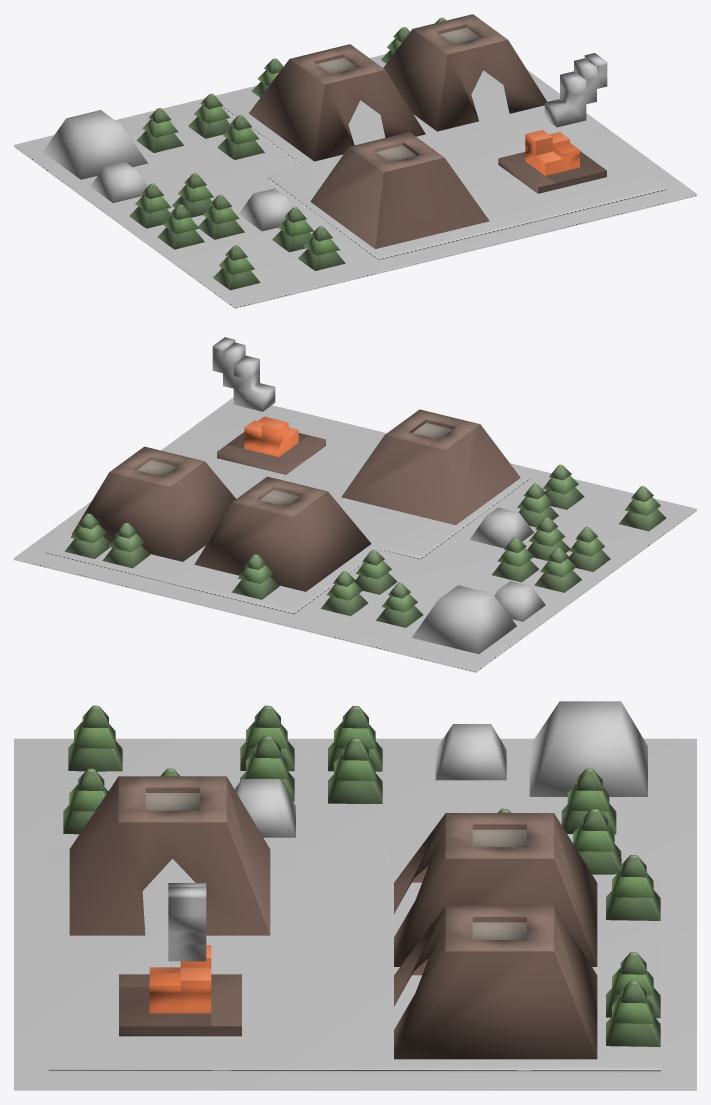
The model's file is CampHut.fbx.
3 views of the same model, one above another, from view 1: azimuth 30°, elevation 25°; view 2: azimuth 150°, elevation 25°; view 3: azimuth 270°, elevation 25° (orthographic). The views are drawn at different scales.
Visible parts, largest first — view 1: Floor, Hut3, Hut1, Hut1_001, Rock_000, Campfire, Cube_002, Rock_001, Rock_002, Tree_009, Tree_007, Tree_008 (+8 smaller); view 2: Floor, Hut3, Hut1, Hut1_001, Rock_000, Campfire, Cube_002, Rock_002, Rock_001, Tree_012, Tree_002, Tree_011 (+10 smaller); view 3: Floor, Hut1_001, Hut3, Hut1, Rock_000, Campfire, Rock_001, Cube_002, Tree_011, Tree_010, Tree_006, Rock_002 (+8 smaller).
Boxes of the visible parts, box(x1,y1,x2,y2) form: Floor: box(14, 54, 696, 308); Hut3: box(310, 132, 489, 249); Hut1: box(249, 44, 425, 161); Hut1_001: box(383, 14, 546, 131); Rock_000: box(43, 110, 147, 179); Campfire: box(498, 130, 606, 193); Cube_002: box(544, 53, 607, 127); Rock_001: box(90, 162, 147, 202); Rock_002: box(239, 188, 293, 231); Tree_009: box(157, 204, 204, 249); Tree_007: box(198, 194, 244, 239); Tree_008: box(213, 245, 260, 290); Floor: box(14, 397, 696, 672); Hut3: box(341, 409, 520, 525); Hut1: box(194, 476, 371, 591); Hut1_001: box(71, 446, 235, 561); Rock_000: box(412, 585, 516, 654); Campfire: box(217, 416, 325, 474); Cube_002: box(212, 337, 275, 411); Rock_002: box(469, 507, 534, 548); Rock_001: box(494, 581, 545, 621); Tree_012: box(102, 522, 150, 568); Tree_002: box(376, 582, 423, 627); Tree_011: box(64, 513, 110, 558); Floor: box(14, 738, 696, 1090); Hut1_001: box(394, 905, 597, 1059); Hut3: box(69, 776, 270, 935); Hut1: box(394, 813, 597, 966); Rock_000: box(529, 701, 647, 796); Campfire: box(119, 945, 241, 1036); Rock_001: box(435, 724, 506, 780); Cube_002: box(168, 883, 206, 961); Tree_011: box(606, 981, 660, 1046); Tree_010: box(606, 855, 660, 920); Tree_006: box(328, 738, 382, 803); Rock_002: box(234, 779, 295, 837).
Bounding box in the file's own units: 11.02 × 2.47 × 9.13.
